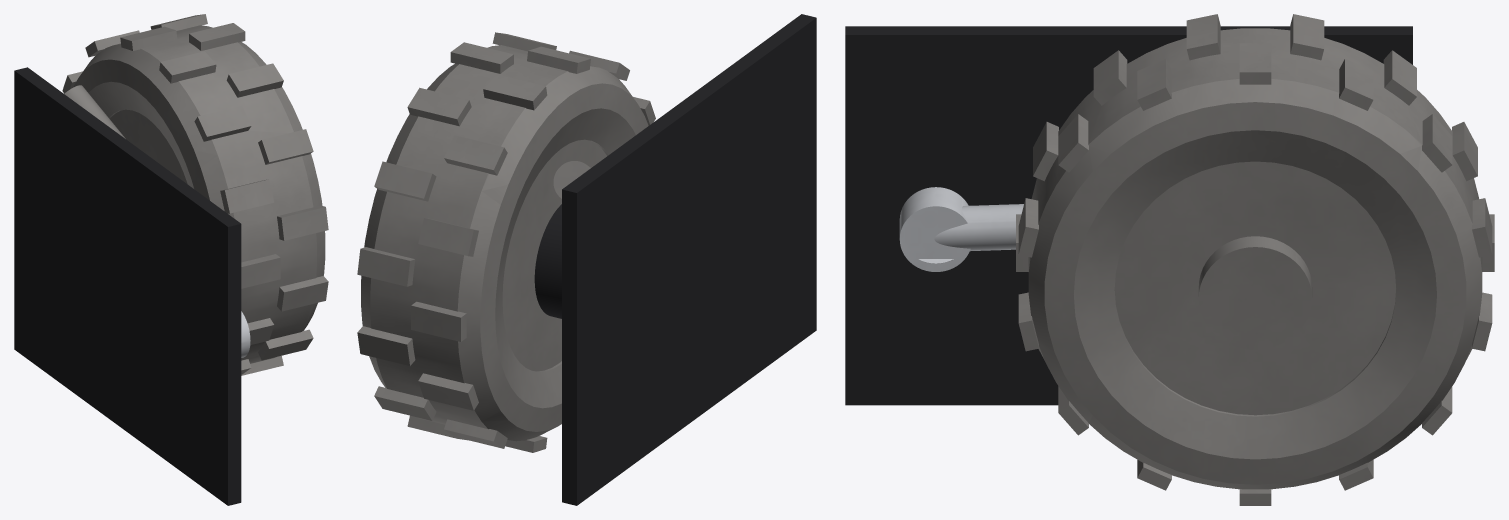
File: rover04_wheel_l_susp_up.glb
3 renders of one model, left to right at view 1: azimuth 30°, elevation 25°; view 2: azimuth 150°, elevation 25°; view 3: azimuth 270°, elevation 25°, orthographic. The views are drawn at different scales.
Visible parts, largest first — view 1: mount_plate, wheel, damper; view 2: mount_plate, wheel, hub_motor, damper; view 3: wheel, mount_plate, swing_arm.
Part boxes in pixels (<box>): mount_plate: <box>14,67,241,505</box>; wheel: <box>62,14,328,375</box>; damper: <box>64,85,125,138</box>; mount_plate: <box>562,14,816,505</box>; wheel: <box>357,32,655,452</box>; hub_motor: <box>534,204,561,318</box>; damper: <box>553,161,590,198</box>; wheel: <box>1016,14,1494,505</box>; mount_plate: <box>845,26,1412,405</box>; swing_arm: <box>899,187,1023,271</box>.
Bounding box in the file's own units: 0.7305 × 1.26 × 1.72.
3 materials, 2 textured.
